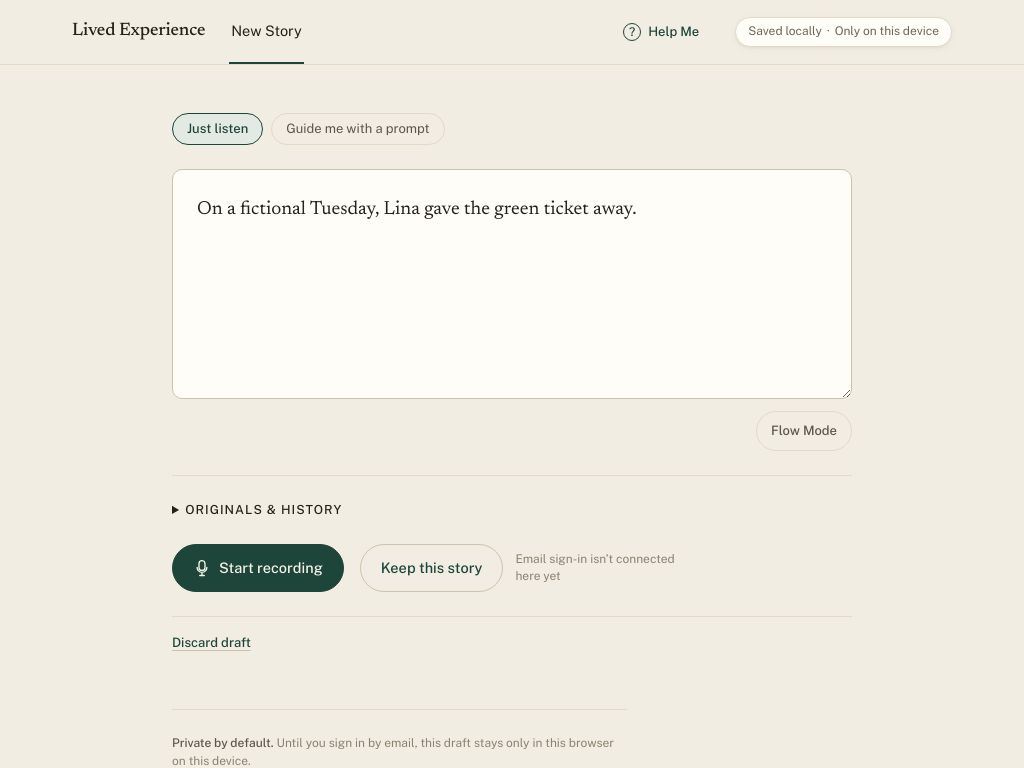
it: App capture integration › opens recoverable history and restores without destroying later versions
Expected: the text box named "Write or edit your story" holds "On a fictional Tuesday, Lina gave the green ticket away.", [172,169,852,399]
Click the heading "Originals & history" at (264, 510), box [185,502,342,517]
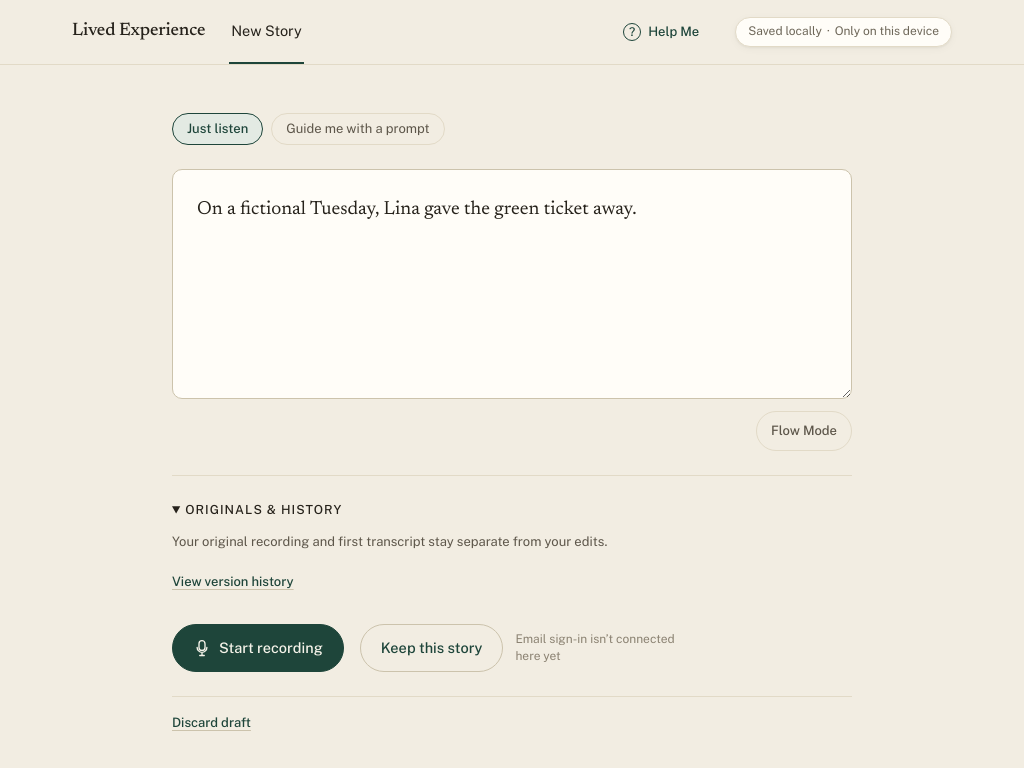
Click the button "View version history" at (233, 582), box [172,564,294,600]
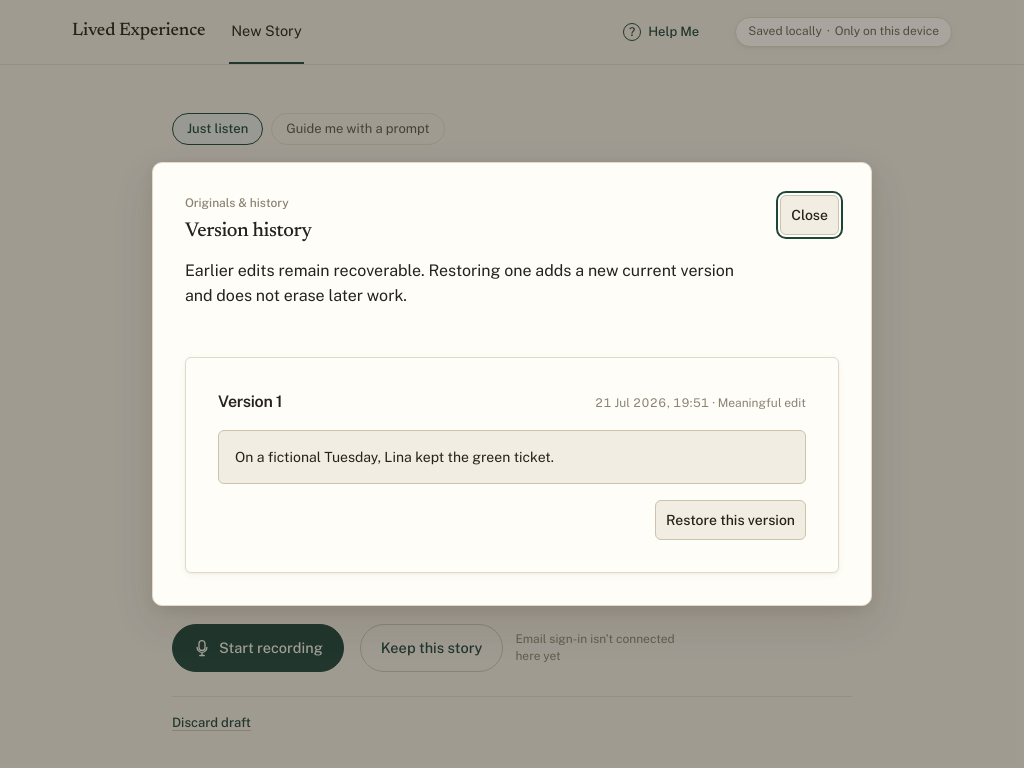
Now the dialog "Version history" is shown, box [152,162,872,606]
Now the text named "Text of version 1" reads "On a fictional Tuesday, Lina kept the green ticket.", box [235,449,554,465]
Click the button with aria-label "Restore version 1" at (730, 520), box [655,500,806,540]
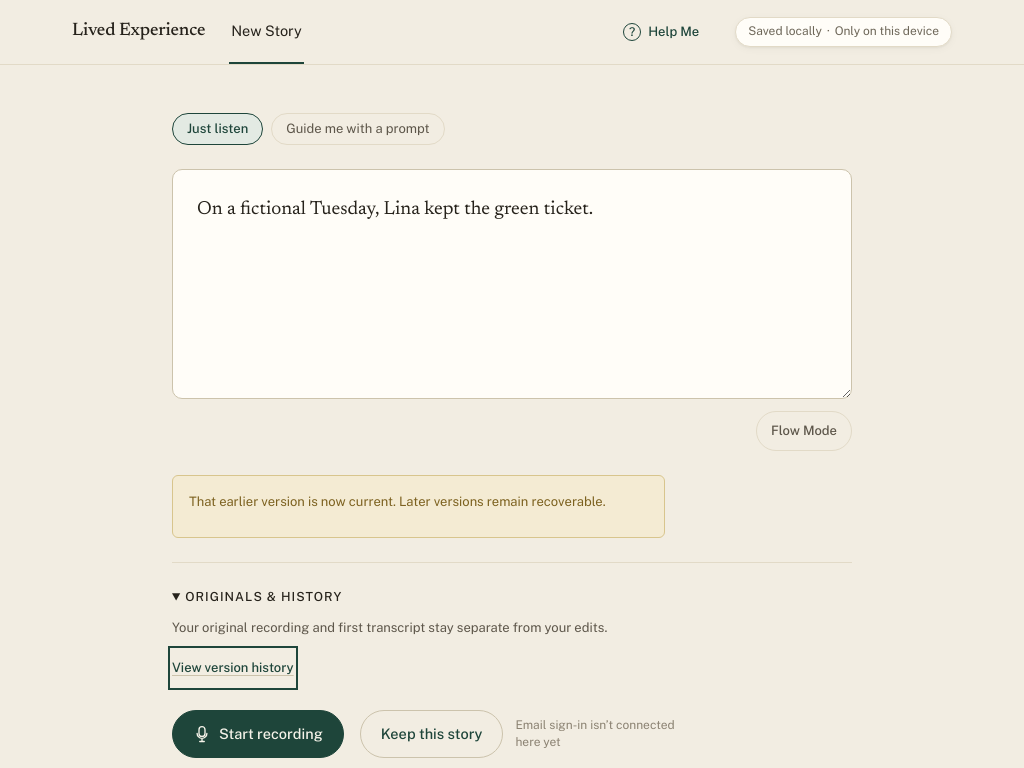
Expected: the text "Saved locally" is shown, [748,24,822,40]
Now the text box named "Write or edit your story" holds "On a fictional Tuesday, Lina kept the green ticket.", box [172,169,852,399]
